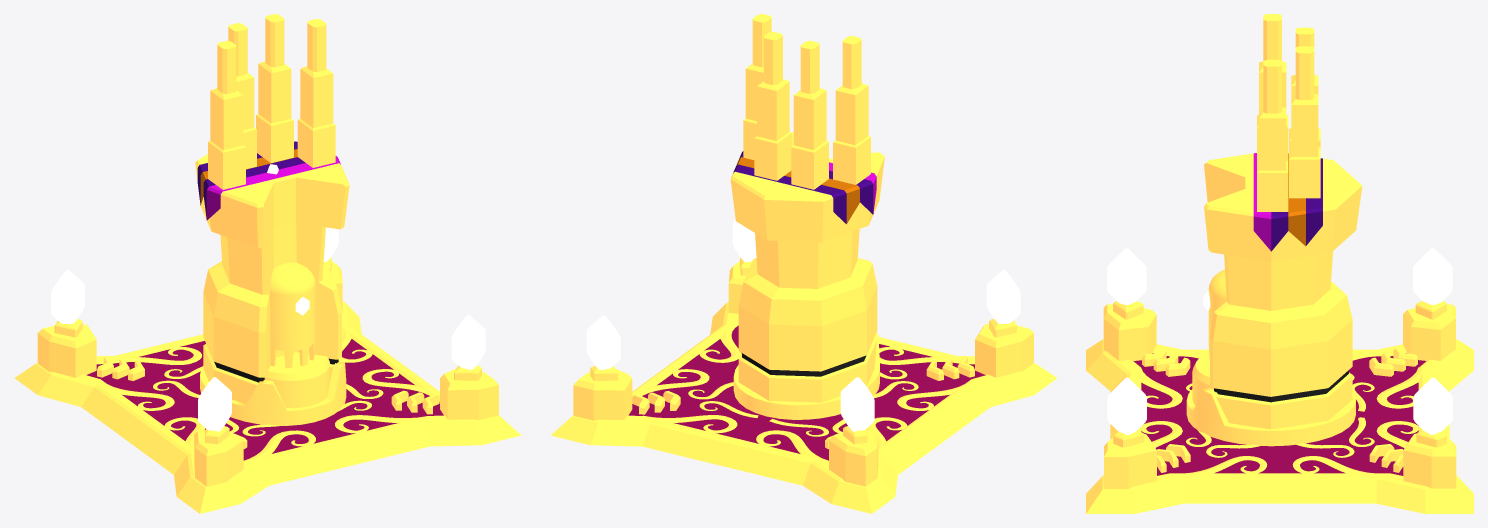
The model's file is 4_aaltar_LE_4.fbx.
3 renders of one model, left to right at view 1: azimuth 30°, elevation 25°; view 2: azimuth 150°, elevation 25°; view 3: azimuth 270°, elevation 25°, orthographic. The views are drawn at different scales.
Visible parts, largest first — view 1: aaltar_LE_4; view 2: aaltar_LE_4; view 3: aaltar_LE_4.
Boxes of the visible parts, x1=… form: aaltar_LE_4: x1=14, y1=14, x2=521, y2=513; aaltar_LE_4: x1=551, y1=14, x2=1056, y2=513; aaltar_LE_4: x1=1086, y1=14, x2=1473, y2=513.
Size of the model in its own units: 78.77 by 87.78 by 78.73.
